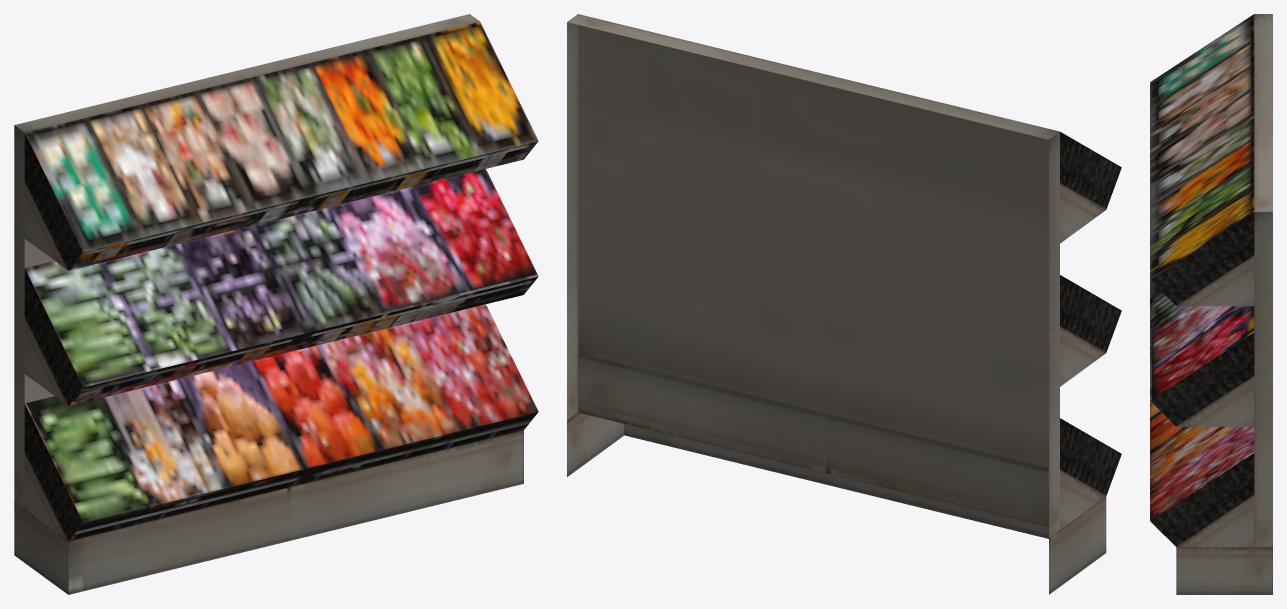
File: StoreVeggieShelf01.obj
The picture shows the model from 3 angles, left to right: view 1: azimuth 30°, elevation 25°; view 2: azimuth 150°, elevation 25°; view 3: azimuth 270°, elevation 25°; orthographic projection. The views are drawn at different scales.
Parts seen in each view (by area): view 1: StoreVeggieShelf01; view 2: StoreVeggieShelf01; view 3: StoreVeggieShelf01.
Part boxes in pixels (<box>): StoreVeggieShelf01: <box>14,14,538,594</box>; StoreVeggieShelf01: <box>567,14,1121,594</box>; StoreVeggieShelf01: <box>1150,14,1272,594</box>.
Size of the model in its own units: 2.5 by 2.26 by 0.6559.
